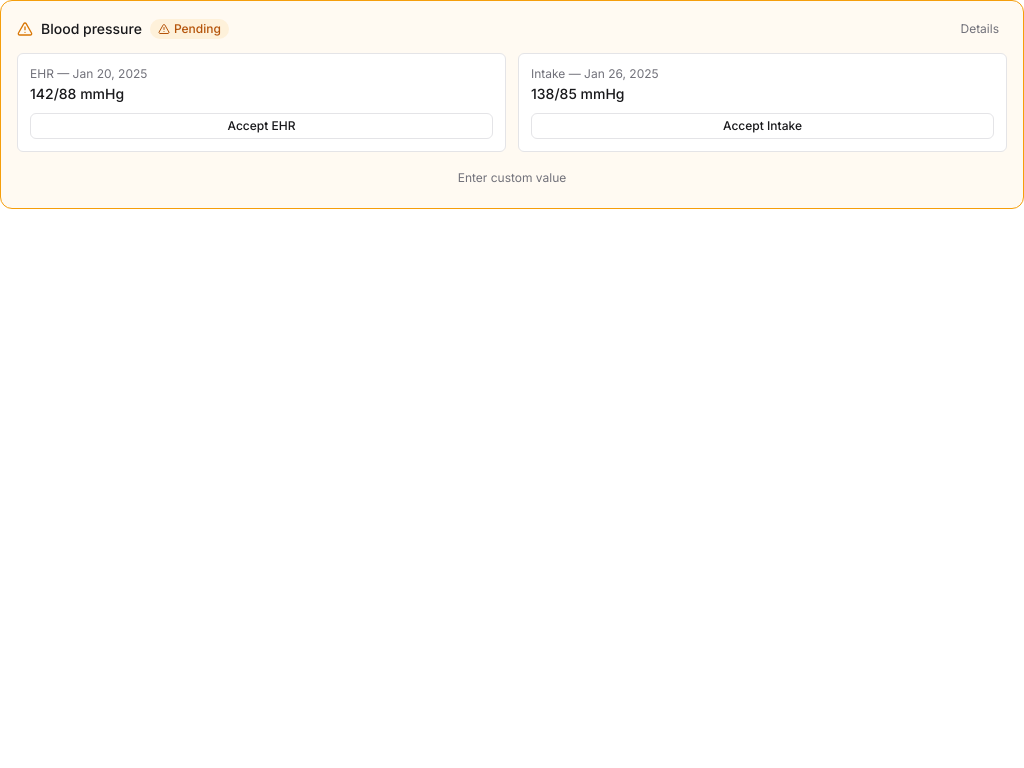
Test: ConflictHighlight › opens the resolution dialog when Enter custom value button is clicked
Click the button with aria-label "Enter custom value for Blood pressure" at (512, 178), box [17, 164, 1007, 192]
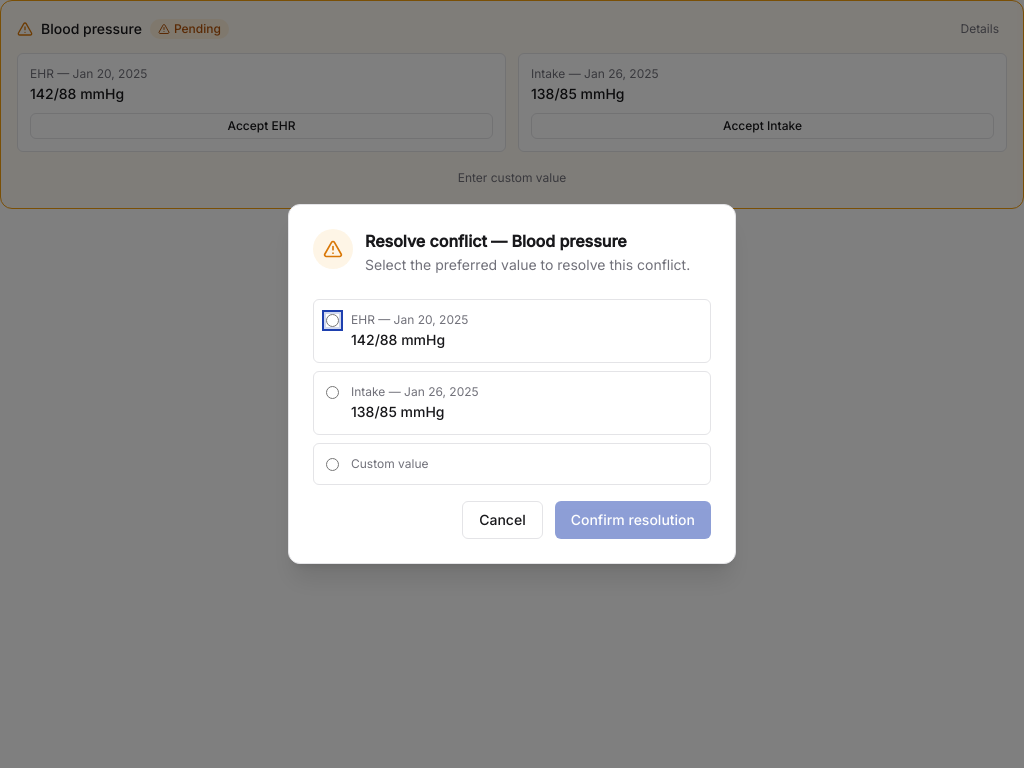
Check: the dialog is shown, box [288, 204, 736, 564]
